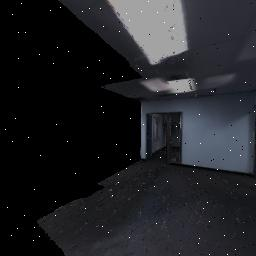door-frame: (145, 107, 186, 179)
